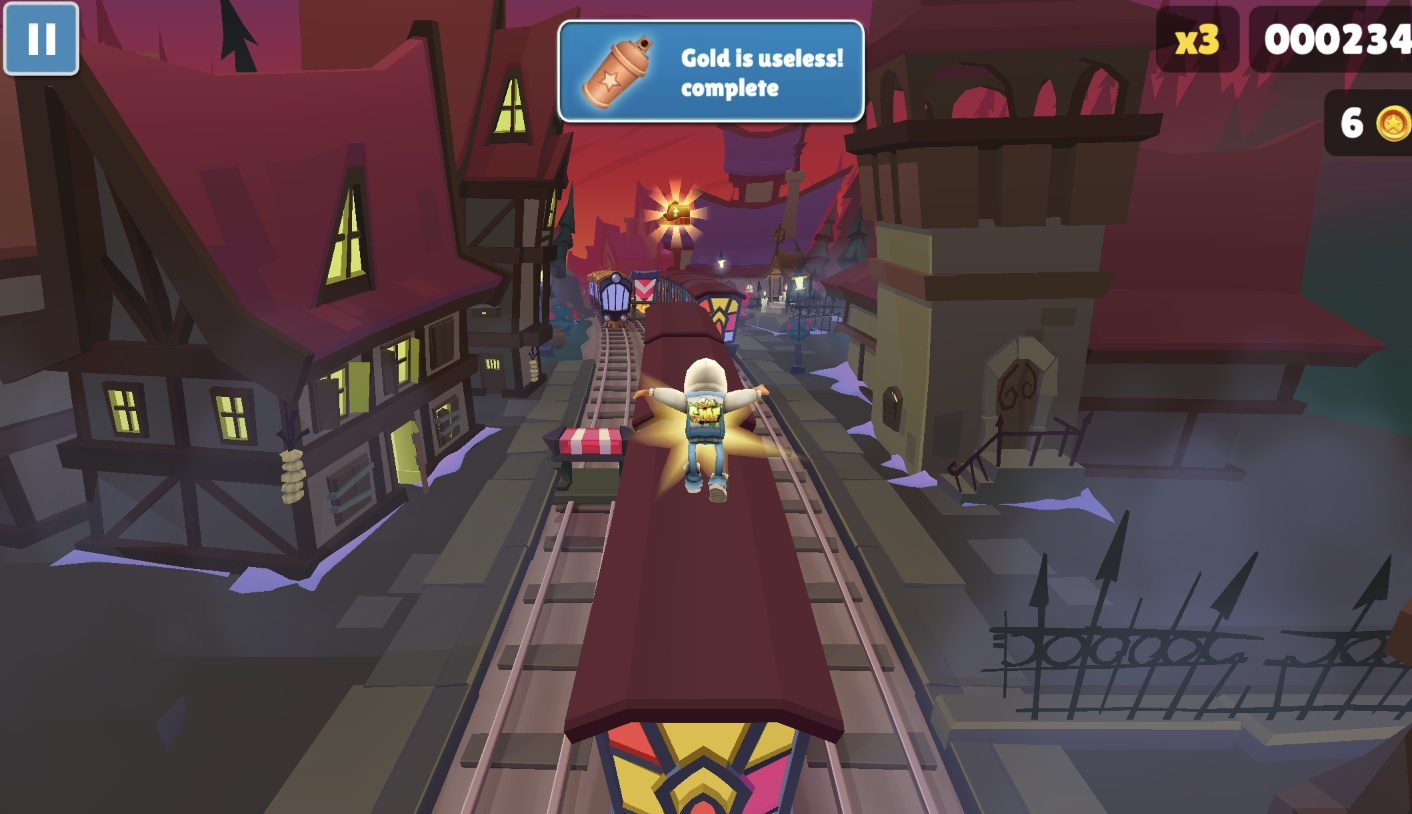ground_barrier: (546, 428, 631, 513)
overhead_barrier: (629, 270, 659, 319)
train: (570, 311, 835, 814), (665, 274, 758, 365), (585, 270, 633, 329)
